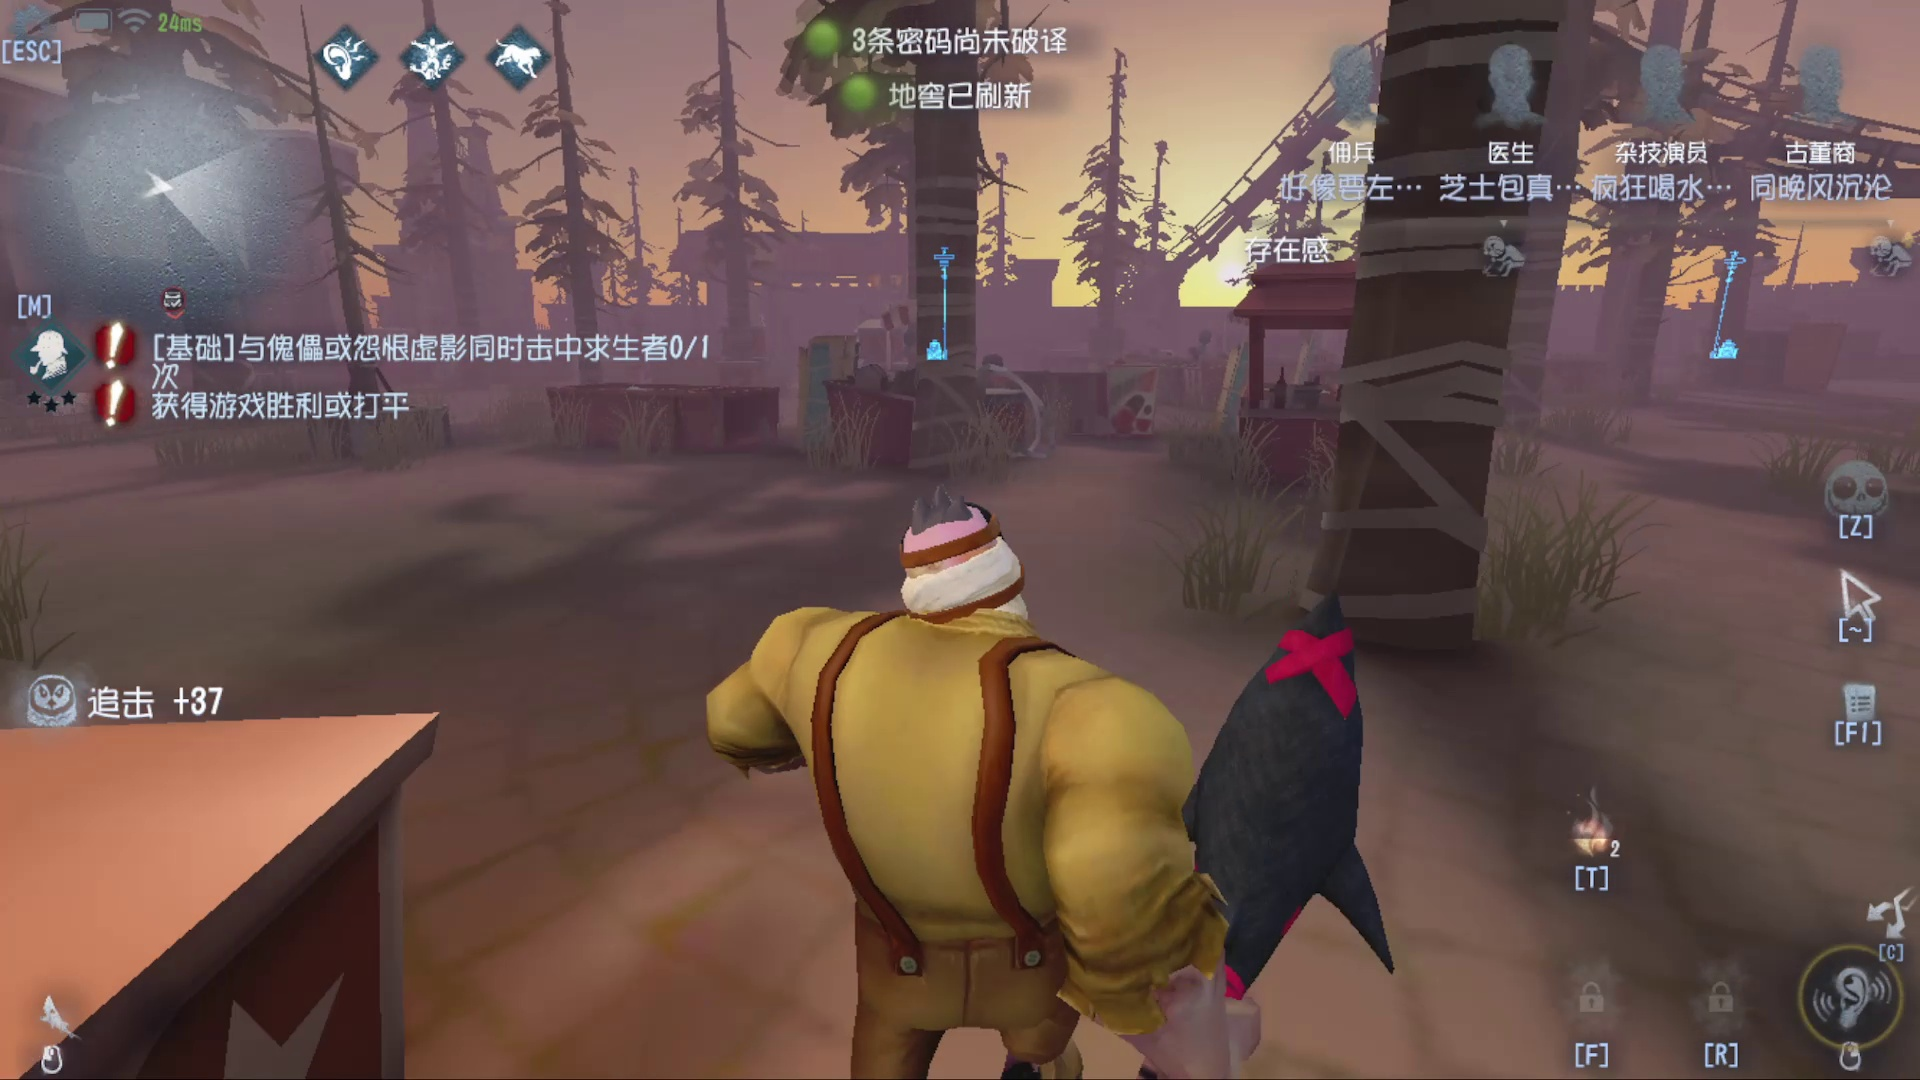密码机: (916, 233, 969, 378), (1702, 252, 1755, 371)
木板: (782, 331, 880, 462), (1199, 342, 1247, 439), (1288, 331, 1323, 385)
